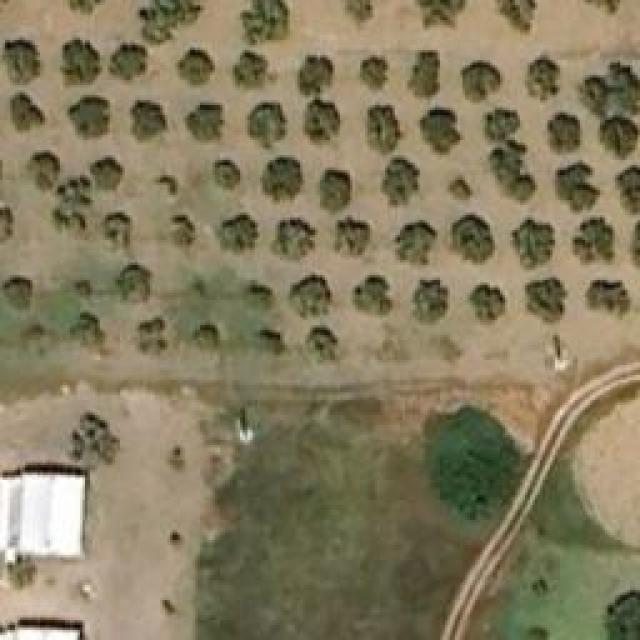Tree: (577, 62, 640, 125), (70, 412, 123, 470), (138, 0, 203, 45), (417, 105, 465, 158), (553, 160, 603, 210), (238, 0, 288, 48), (585, 278, 640, 321), (493, 143, 536, 198), (53, 175, 96, 230), (513, 218, 556, 271), (0, 37, 45, 85), (60, 38, 103, 88), (575, 215, 618, 265), (525, 277, 568, 325), (288, 273, 333, 318), (460, 60, 503, 105), (450, 215, 493, 260), (395, 220, 438, 265), (597, 115, 640, 160), (248, 102, 288, 150), (305, 98, 340, 151), (368, 103, 403, 156), (382, 157, 420, 205), (410, 277, 448, 325), (605, 590, 640, 640), (185, 103, 225, 146), (263, 158, 303, 201), (215, 213, 258, 253), (543, 113, 583, 156), (465, 283, 505, 326), (110, 263, 153, 303), (525, 55, 560, 103), (408, 50, 441, 100), (68, 97, 111, 135), (108, 43, 148, 83), (335, 215, 375, 255), (353, 275, 393, 315), (415, 0, 468, 30), (177, 48, 215, 88), (272, 220, 310, 260), (495, 0, 538, 35), (8, 553, 43, 596), (320, 170, 353, 213), (478, 108, 521, 141), (10, 93, 45, 133), (65, 313, 103, 348), (300, 55, 333, 95), (615, 165, 640, 215), (133, 100, 168, 135), (88, 158, 123, 191), (245, 280, 278, 315), (338, 0, 373, 30), (138, 318, 168, 353), (28, 158, 58, 191), (310, 328, 338, 361), (153, 173, 183, 203), (212, 160, 240, 190), (102, 213, 130, 243), (360, 58, 388, 88), (257, 327, 285, 355), (173, 215, 196, 248), (5, 278, 30, 308), (193, 325, 218, 355), (448, 172, 473, 200), (0, 205, 15, 245), (70, 275, 90, 300)
